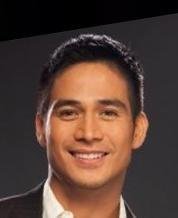face: (52, 98, 129, 167)
